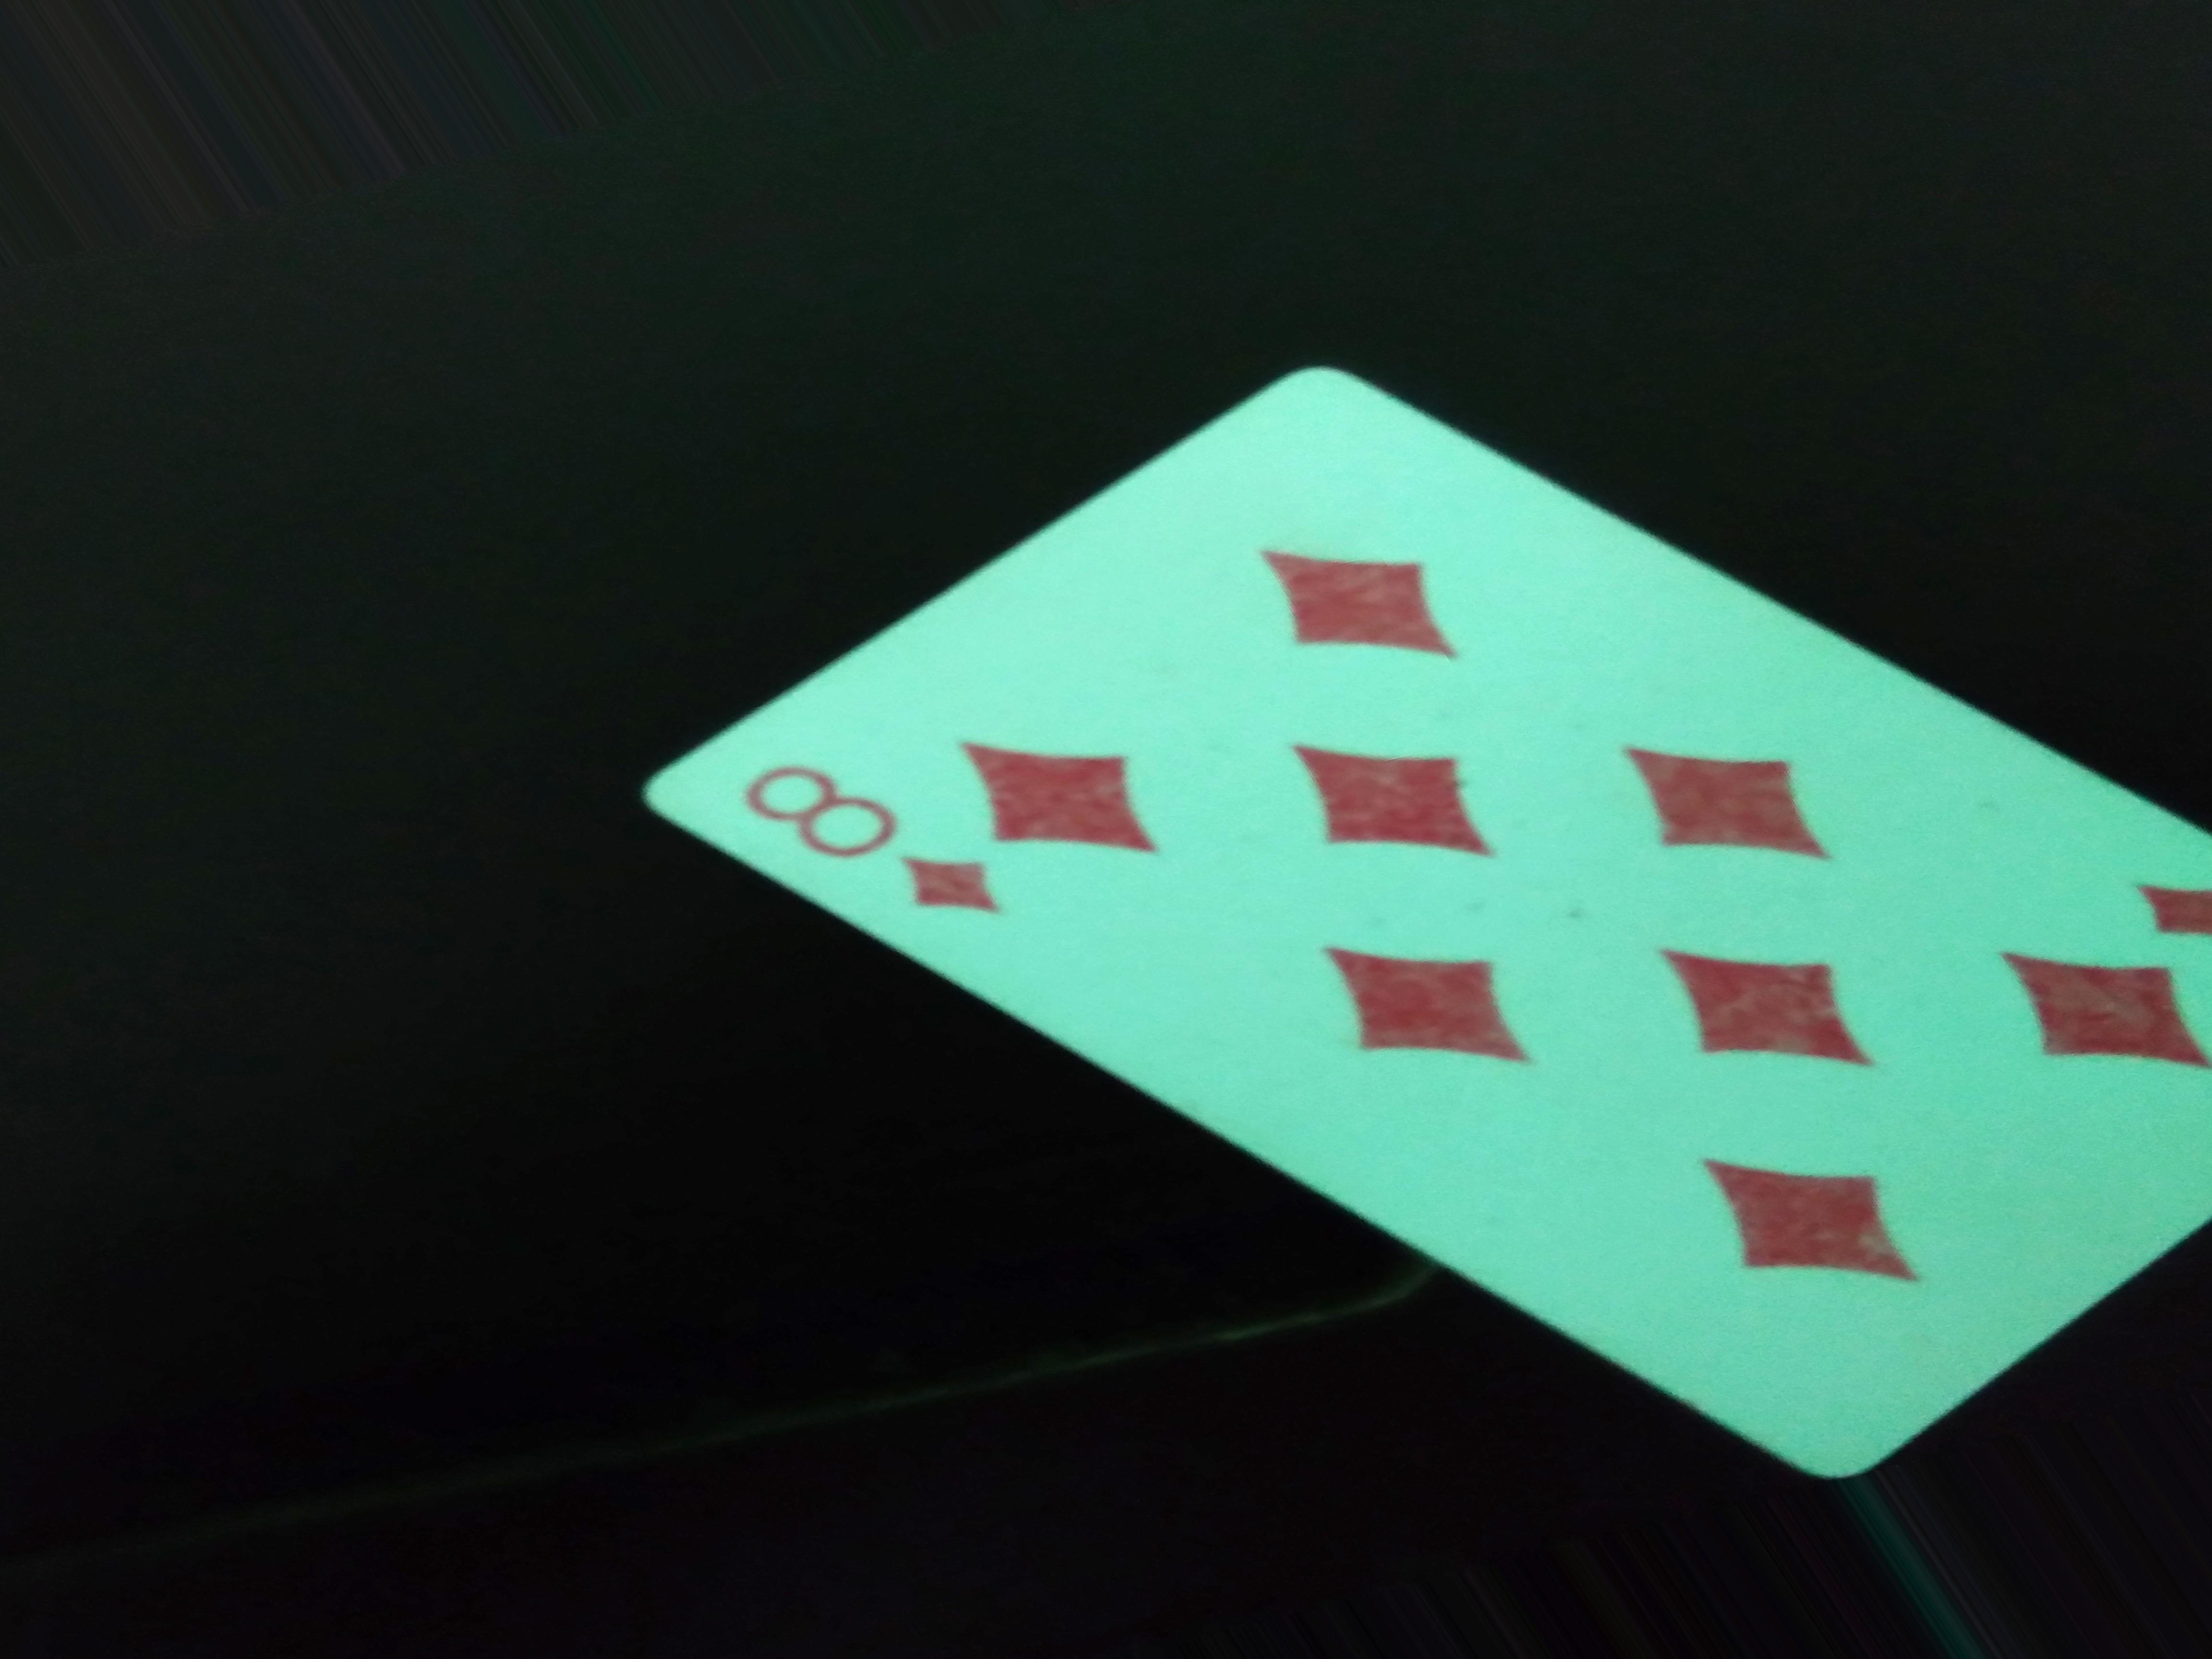8D: (735, 753, 1028, 960)
